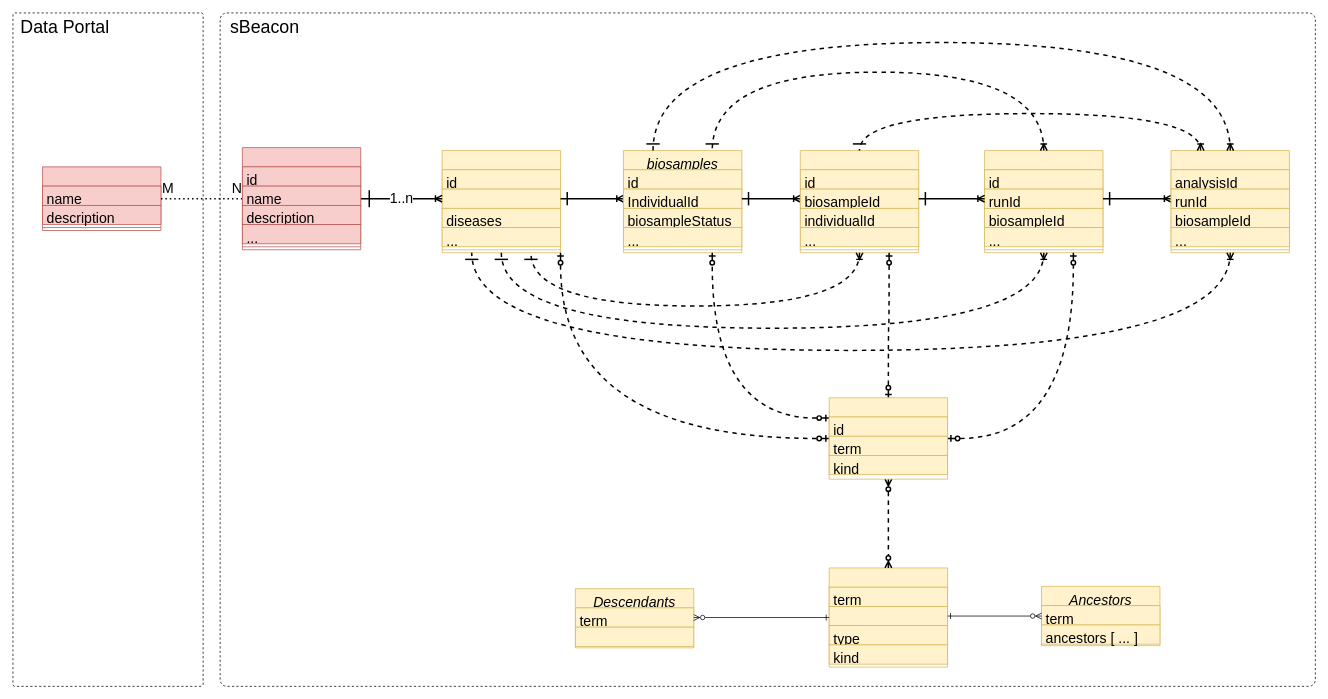
The diagram is 1328 pixels wide and 699 high, and some of its shapes have lost their labels. Here are the shapes that lost their labels. From the top down, the box of each, then its label:
(42, 166, 161, 231): Projects
(242, 147, 361, 250): datasets
(441, 188, 561, 208): sex
(441, 150, 561, 253): Individuals
(800, 150, 919, 253): runs
(984, 150, 1103, 253): analyses
(1170, 150, 1289, 253): GenomicVariants
(828, 397, 948, 479): TermsIndex
(575, 626, 694, 646): descendants [ ... ]
(828, 606, 948, 626): label
(828, 567, 948, 667): Terms
